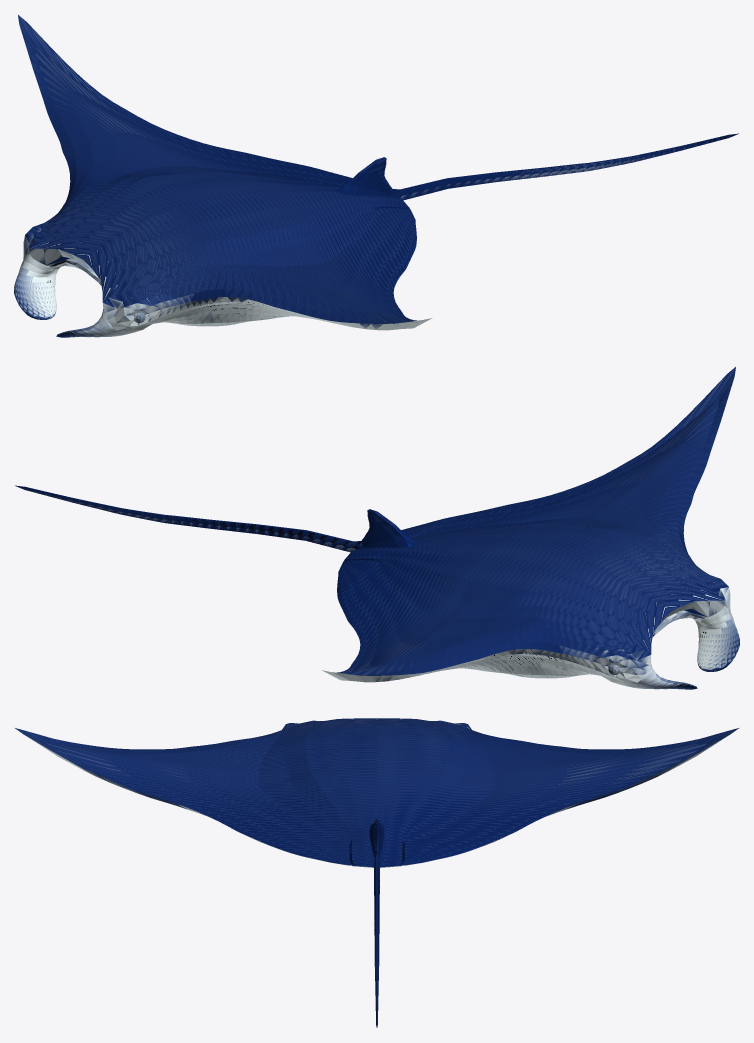
The model's file is Manta0.obj.
3 renders of one model, top to bottom at view 1: azimuth 30°, elevation 25°; view 2: azimuth 150°, elevation 25°; view 3: azimuth 270°, elevation 25°, orthographic. The views are drawn at different scales.
Visible parts, largest first — view 1: object7, object1, object9, object3, object11, object4; view 2: object7, object1, object9, object4, object10, object3; view 3: object7, object1, object9.
Part boxes in pixels (x1,y1,x2,y2): object7: [18, 15, 416, 323]; object1: [23, 208, 431, 330]; object9: [391, 133, 738, 200]; object3: [14, 254, 60, 319]; object11: [336, 157, 392, 196]; object4: [56, 308, 152, 337]; object7: [337, 367, 735, 675]; object1: [322, 560, 730, 682]; object9: [15, 485, 362, 552]; object4: [693, 606, 739, 671]; object10: [361, 509, 417, 548]; object3: [601, 660, 697, 689]; object7: [15, 718, 738, 867]; object1: [26, 736, 727, 867]; object9: [374, 854, 379, 1027].
Size of the model in its own units: 0.4009 by 0.0663 by 0.4111.
1 material, 1 textured.
